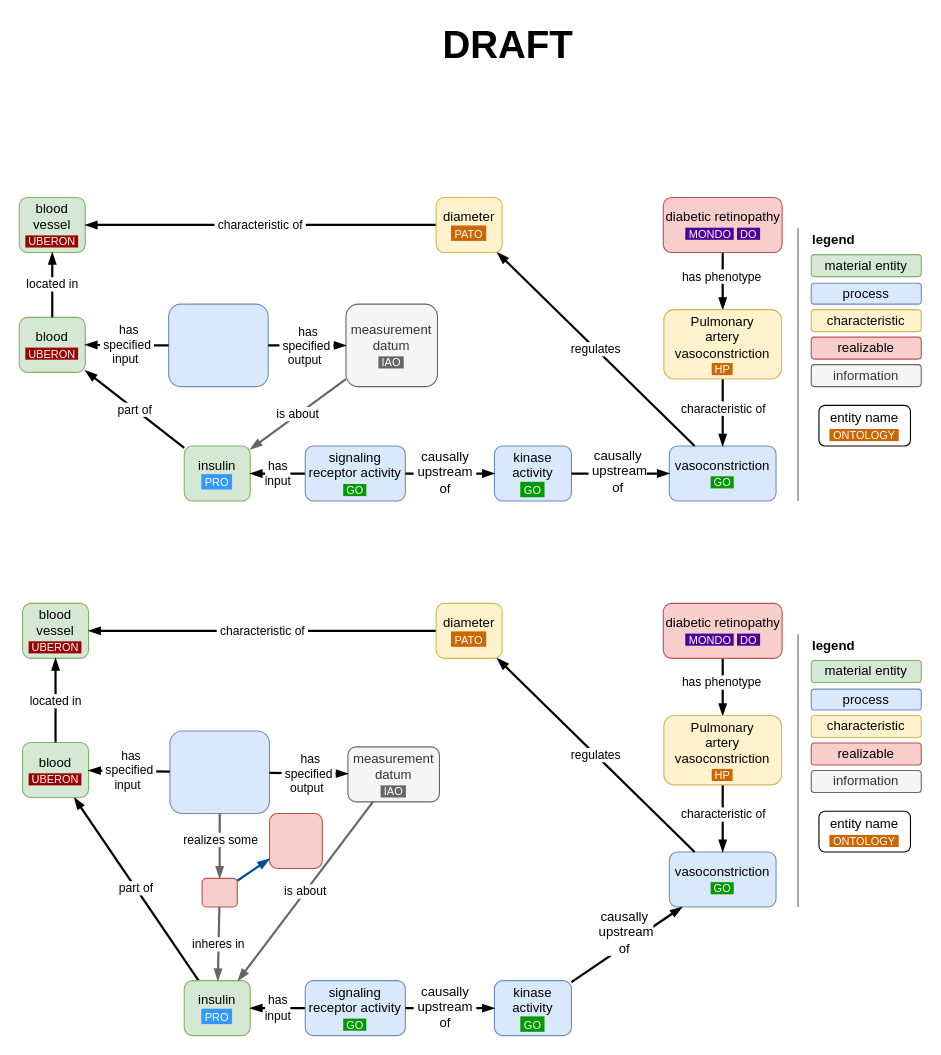
This 941x1055 diagram has some shape labels left out. The shapes that lost their labels are listed below. From the top down, each one's centre as x and y in pixels, then its label:
(218,345): insulin concentration assay OBI
(219,771): insulin concentration assay OBI 0003223
(295,840): analyte role OBI
